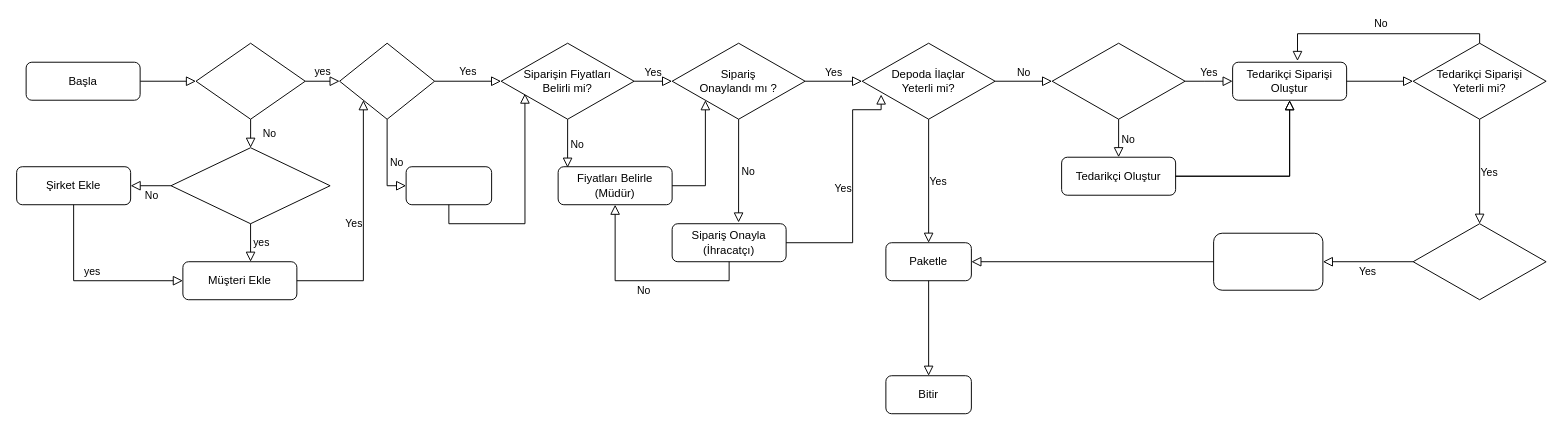
This 1563x430 diagram has some shape labels left out. The shapes that lost their labels are listed below. From the top down, each one's centre as x and y in pixels, then its label:
the point at 250,80: Müşteri Kaydı Varmı ?
the point at 387,80: Sipariş varmı
the point at 1118,80: Tedarikçi Varmı ?
the point at 250,185: Müşteri ile ilgili şirket oluşacak mı ?
the point at 448,185: Sipariş Ekle (İhracatcı)
the point at 1268,261: İlaçlar Depoya Gönder
the point at 1479,261: İlaçlar Kontrol Et
